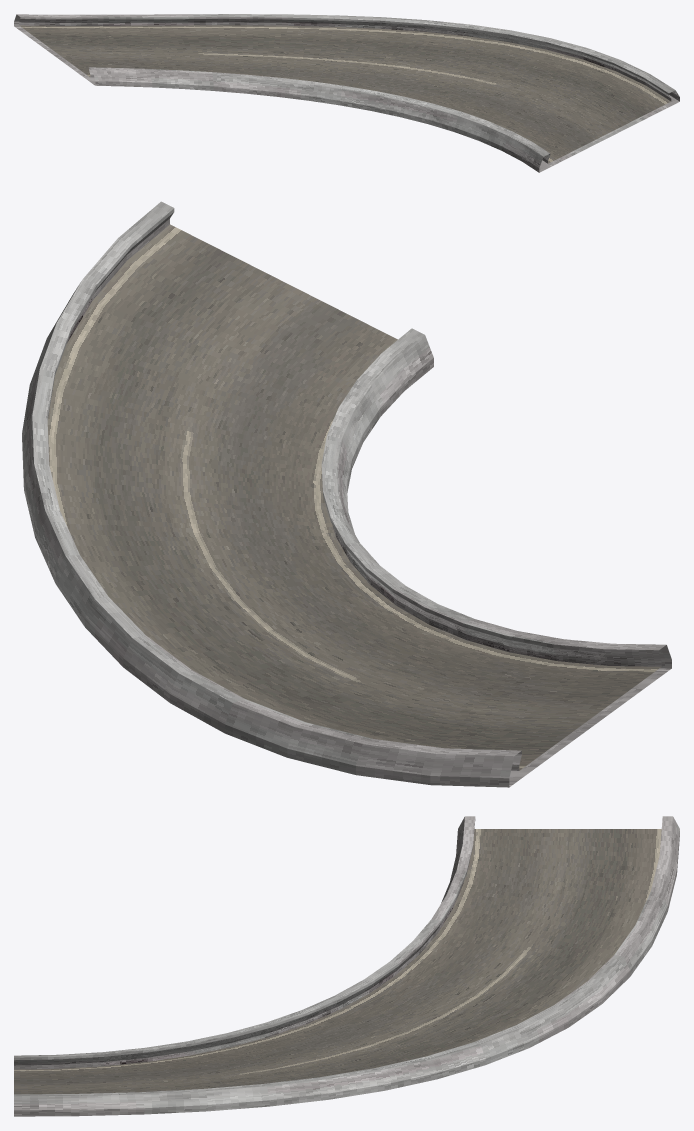
The model's file is road-Turn-HalfBankedLeft-BiSlopeUp-Up1-Left-Size3.glb.
The picture shows the model from 3 angles, top to bottom: view 1: azimuth 30°, elevation 25°; view 2: azimuth 150°, elevation 25°; view 3: azimuth 270°, elevation 25°; orthographic projection. The views are drawn at different scales.
Parts seen in each view (by area): view 1: road-Turn-HalfBankedLeft-BiSlopeUp-Up1-Left-Size3; view 2: road-Turn-HalfBankedLeft-BiSlopeUp-Up1-Left-Size3; view 3: road-Turn-HalfBankedLeft-BiSlopeUp-Up1-Left-Size3.
Boxes of the visible parts, x1,y1,x2,y2 form: road-Turn-HalfBankedLeft-BiSlopeUp-Up1-Left-Size3: [14, 14, 679, 172]; road-Turn-HalfBankedLeft-BiSlopeUp-Up1-Left-Size3: [22, 201, 671, 787]; road-Turn-HalfBankedLeft-BiSlopeUp-Up1-Left-Size3: [14, 816, 679, 1116].
Size of the model in its own units: 3 by 0.3444 by 3.
2 materials, 2 textured.
